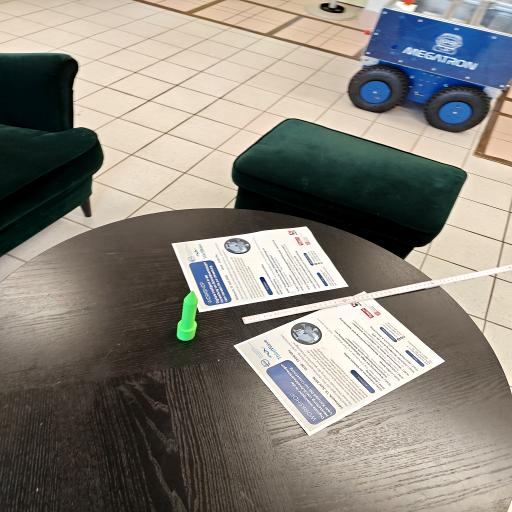Probe-Detection: (177, 290, 198, 341)
